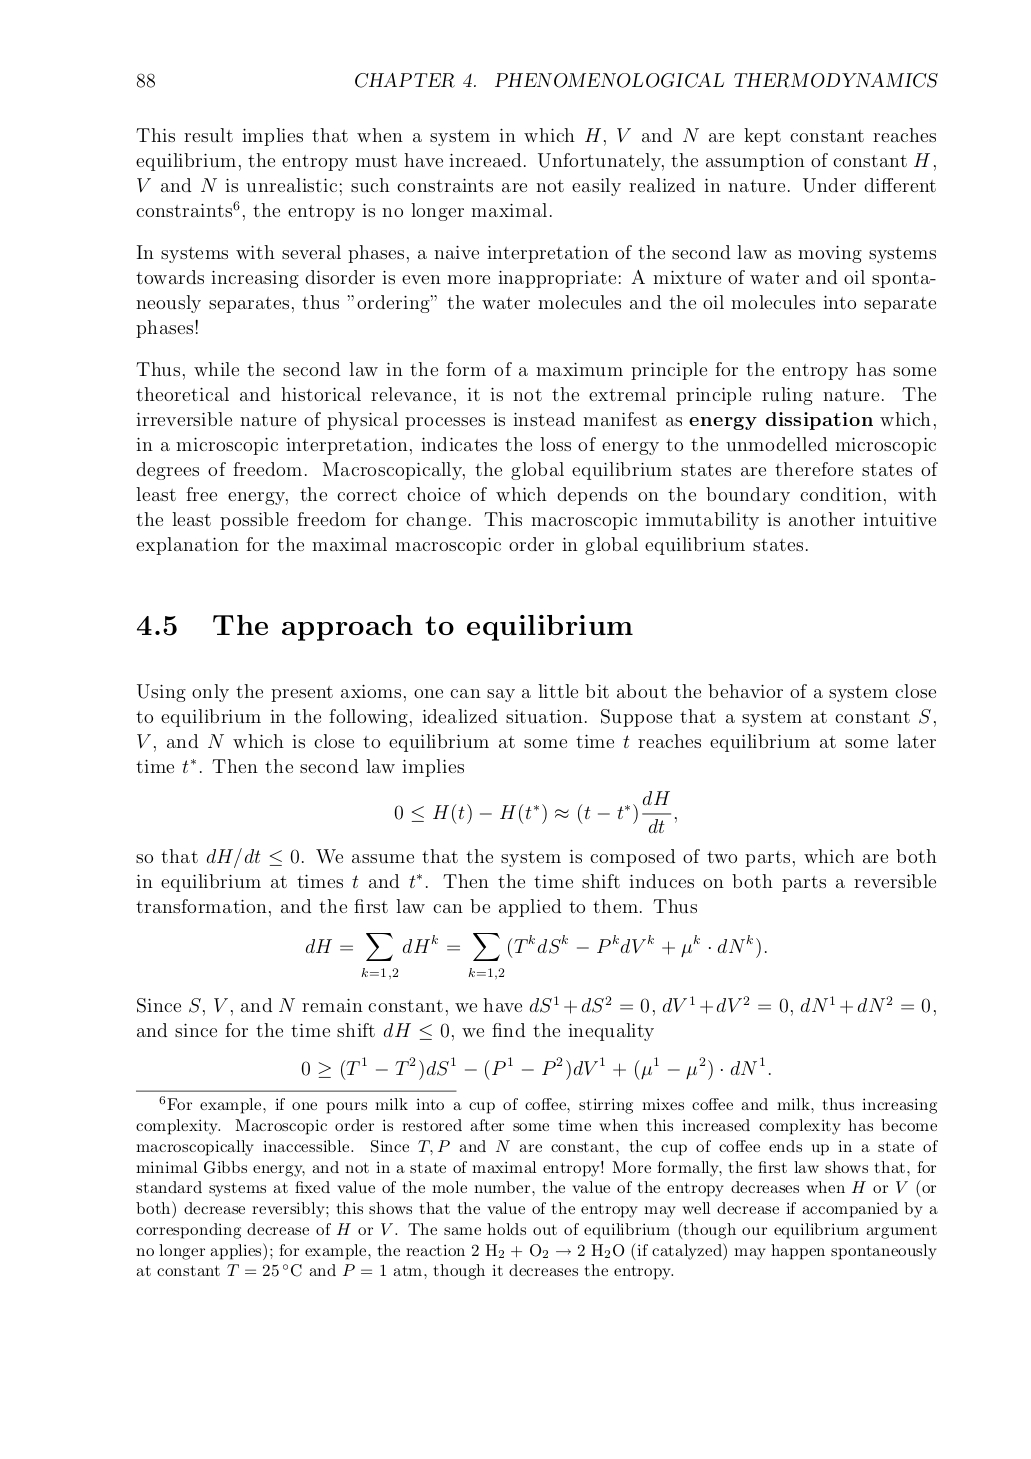formula: (305, 933, 767, 979), (394, 790, 676, 834), (301, 1055, 770, 1080)
